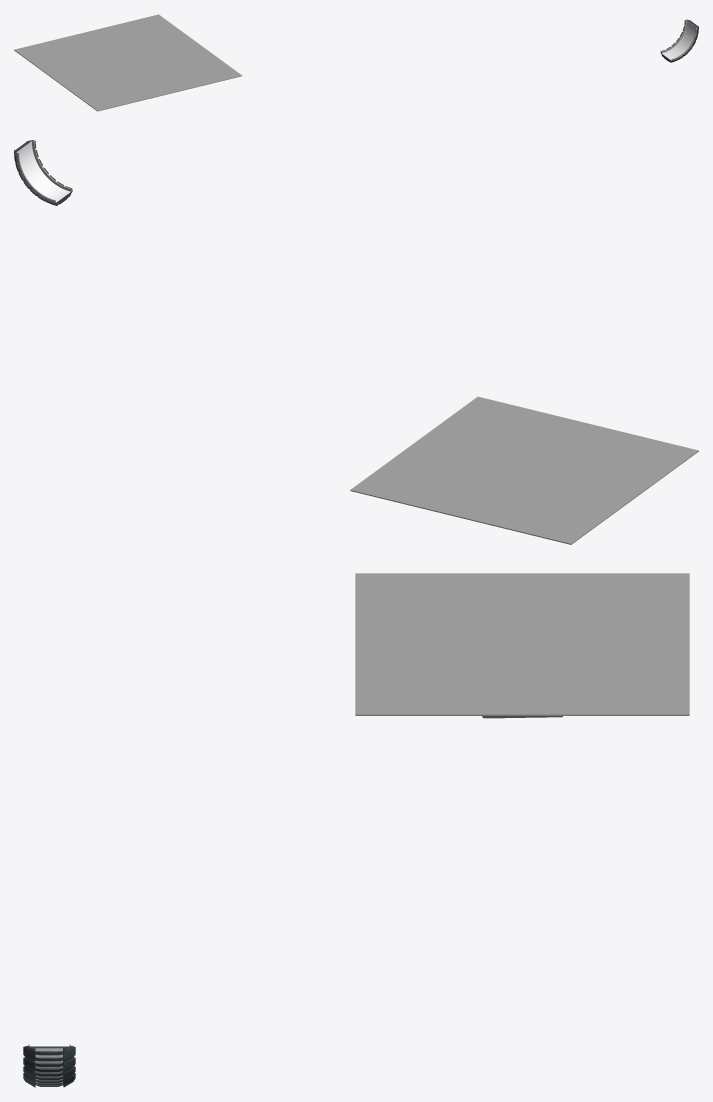
The model's file is New track.fbx.
The picture shows the model from 3 angles, top to bottom: view 1: azimuth 30°, elevation 25°; view 2: azimuth 150°, elevation 25°; view 3: azimuth 270°, elevation 25°; orthographic projection. The views are drawn at different scales.
Parts seen in each view (by area): view 1: pCube1, Ground, Track23, Rail; view 2: pCube1, Ground; view 3: pCube1, Track23.
Boxes of the visible parts, box(x1,y1,x2,y2) form: pCube1: box(14, 14, 242, 111); Ground: box(662, 20, 696, 60); Track23: box(660, 19, 698, 62); Rail: box(661, 20, 697, 60); pCube1: box(350, 396, 698, 544); Ground: box(17, 141, 70, 202); pCube1: box(355, 573, 689, 715); Track23: box(23, 1046, 75, 1087).
Size of the model in its own units: 1716 by 129 by 950.
3 materials, 2 textured.
